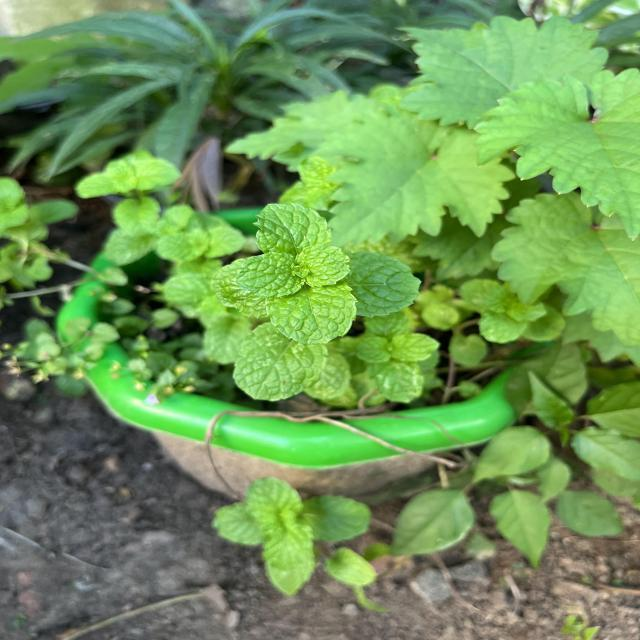Mentha spicata: (264, 283, 360, 347), (346, 250, 423, 319), (252, 202, 334, 254), (234, 250, 304, 298), (293, 242, 352, 288)
